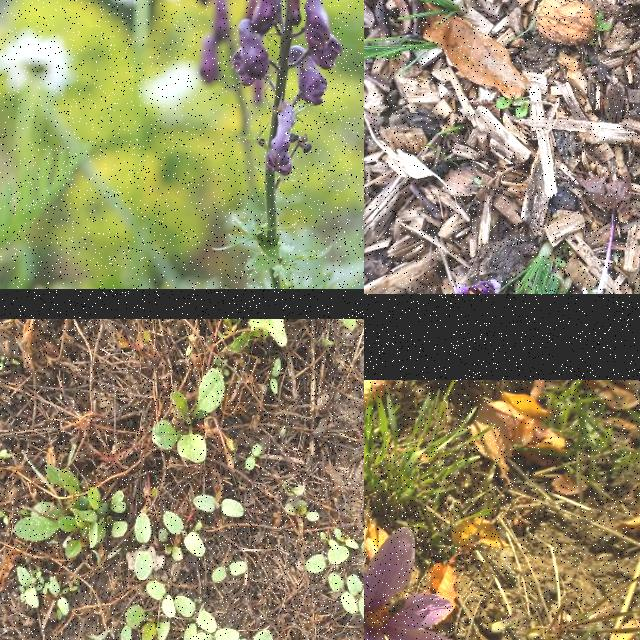flower: (364, 527, 468, 640)
